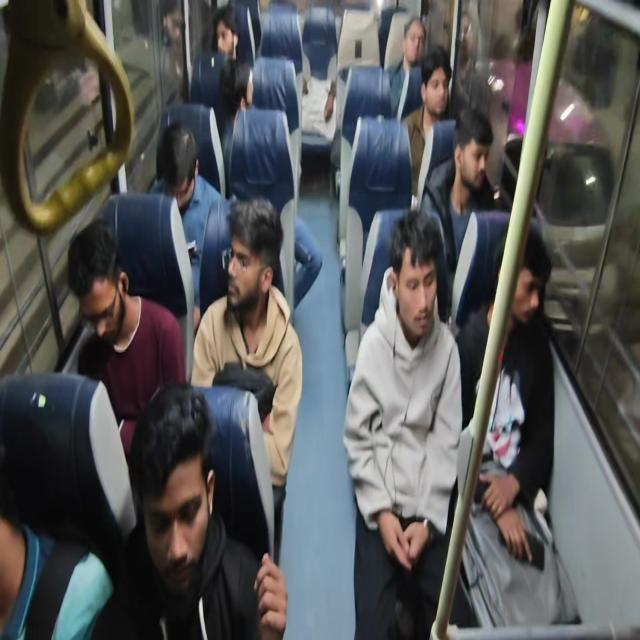person: (121, 410, 246, 640), (483, 223, 576, 369), (0, 440, 67, 640), (66, 236, 137, 404), (363, 245, 457, 370), (219, 160, 284, 323), (291, 54, 340, 154), (220, 59, 266, 165), (154, 118, 206, 190), (447, 102, 492, 182), (411, 59, 454, 129), (392, 0, 426, 74), (210, 8, 241, 61)
